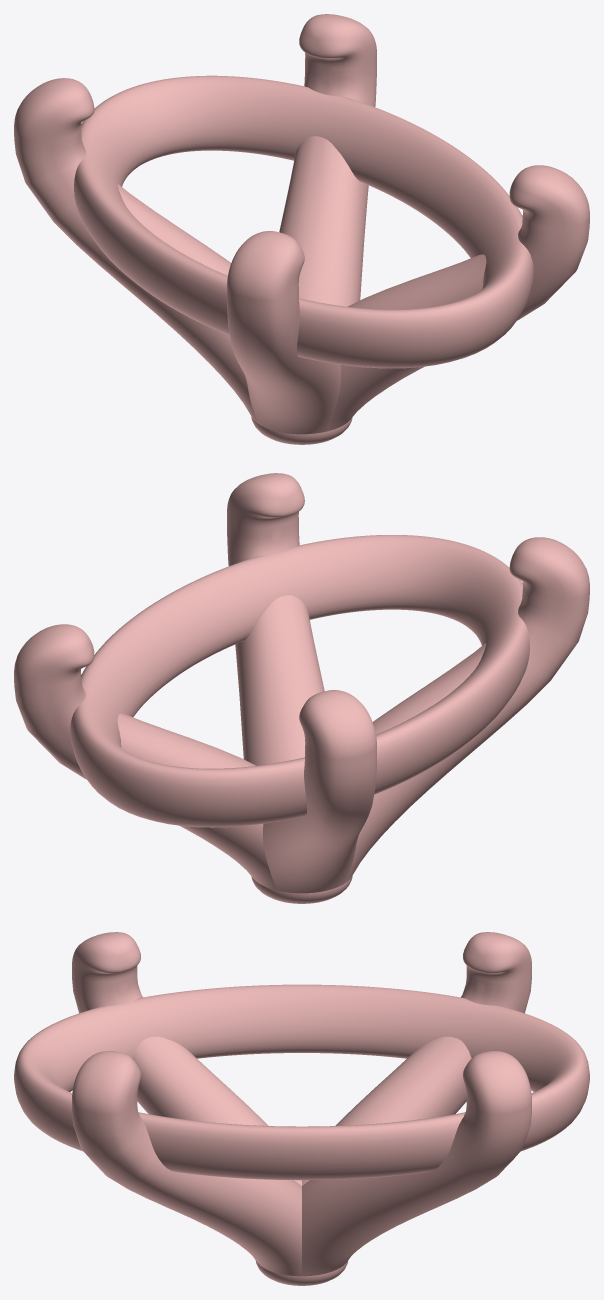
The model's file is OVAL.glb.
The picture shows the model from 3 angles, top to bottom: view 1: azimuth 30°, elevation 25°; view 2: azimuth 150°, elevation 25°; view 3: azimuth 270°, elevation 25°; orthographic projection. The views are drawn at different scales.
Visible parts, largest first — view 1: oval; view 2: oval; view 3: oval.
Part boxes in pixels (x1,y1,x2,y2): oval: [14, 14, 589, 444]; oval: [14, 473, 589, 903]; oval: [14, 932, 589, 1285].
Size of the model in its own units: 5.21 by 4.3 by 8.01.
